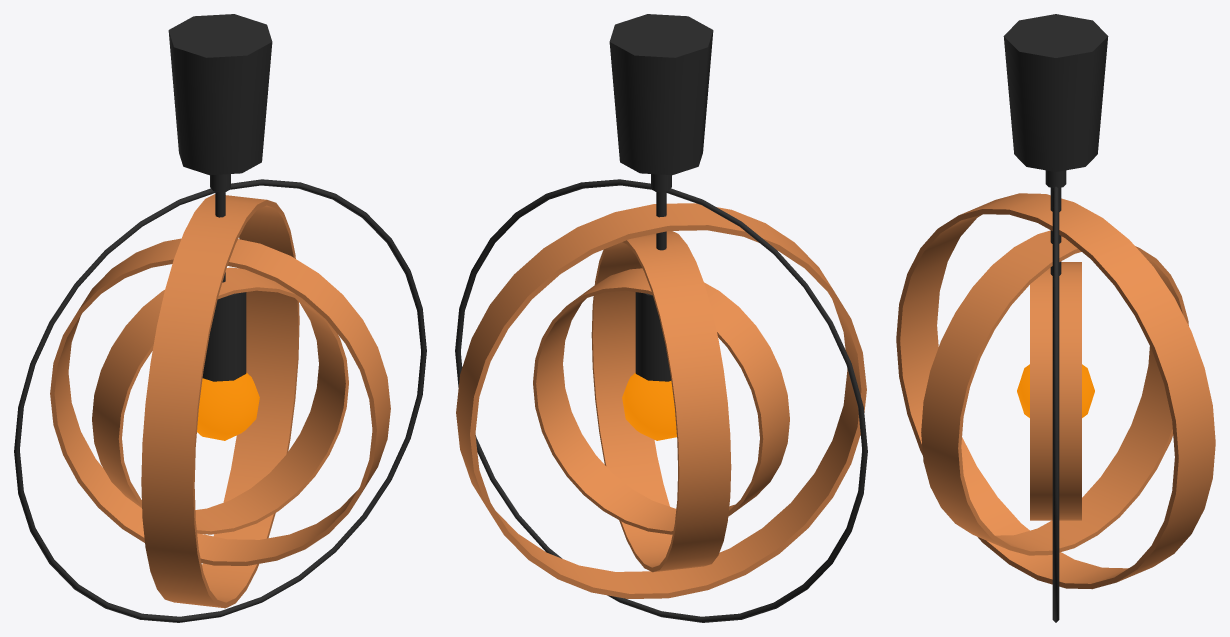
The model's file is wood-rings-pendant-light.glb.
The picture shows the model from 3 angles, left to right: view 1: azimuth 30°, elevation 25°; view 2: azimuth 150°, elevation 25°; view 3: azimuth 270°, elevation 25°; orthographic projection. The views are drawn at different scales.
Visible parts, largest first — view 1: BézierCircle.001, BézierCircle.002, BézierCircle.003, Cylinder, BézierCircle, Cylinder.001, __X_LAMP__Icosphere; view 2: BézierCircle.002, BézierCircle.001, BézierCircle.003, Cylinder, BézierCircle, Cylinder.001, __X_LAMP__Icosphere; view 3: BézierCircle.001, BézierCircle.002, Cylinder, BézierCircle.003, BézierCircle, __X_LAMP__Icosphere, Cylinder.001.
Boxes of the visible parts, x1=… form: BézierCircle.001: x1=141, y1=194, x2=299, y2=608; BézierCircle.002: x1=50, y1=238, x2=390, y2=565; BézierCircle.003: x1=92, y1=267, x2=348, y2=534; Cylinder: x1=168, y1=14, x2=272, y2=175; BézierCircle: x1=14, y1=179, x2=426, y2=622; Cylinder.001: x1=202, y1=174, x2=246, y2=381; __X_LAMP__Icosphere: x1=197, y1=372, x2=259, y2=440; BézierCircle.002: x1=591, y1=231, x2=731, y2=572; BézierCircle.001: x1=456, y1=203, x2=866, y2=598; BézierCircle.003: x1=533, y1=268, x2=789, y2=534; Cylinder: x1=609, y1=14, x2=713, y2=175; BézierCircle: x1=455, y1=179, x2=867, y2=622; Cylinder.001: x1=635, y1=174, x2=671, y2=381; __X_LAMP__Icosphere: x1=622, y1=372, x2=676, y2=440; BézierCircle.001: x1=896, y1=193, x2=1215, y2=589; BézierCircle.002: x1=921, y1=230, x2=1188, y2=555; Cylinder: x1=1003, y1=14, x2=1108, y2=171; BézierCircle.003: x1=1030, y1=262, x2=1081, y2=520; BézierCircle: x1=1052, y1=186, x2=1059, y2=622; __X_LAMP__Icosphere: x1=1017, y1=364, x2=1094, y2=417; Cylinder.001: x1=1045, y1=170, x2=1066, y2=275.
Size of the model in its own units: 0.355 by 0.4775 by 0.2447.
